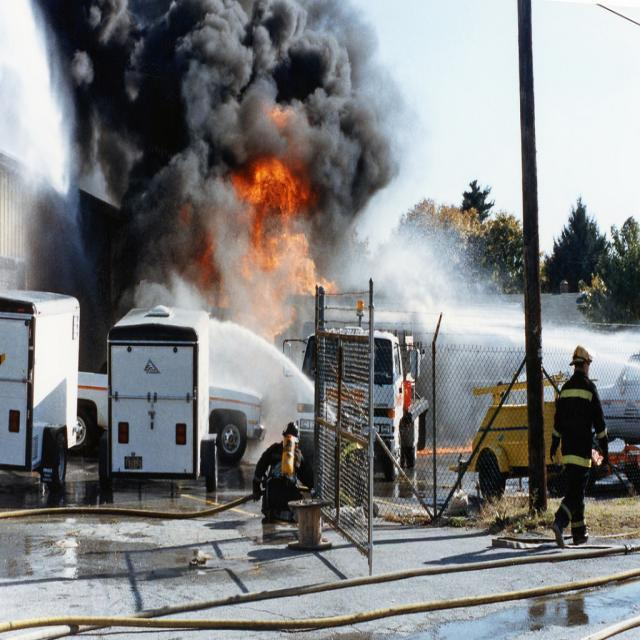Fire: (234, 148, 312, 312)
